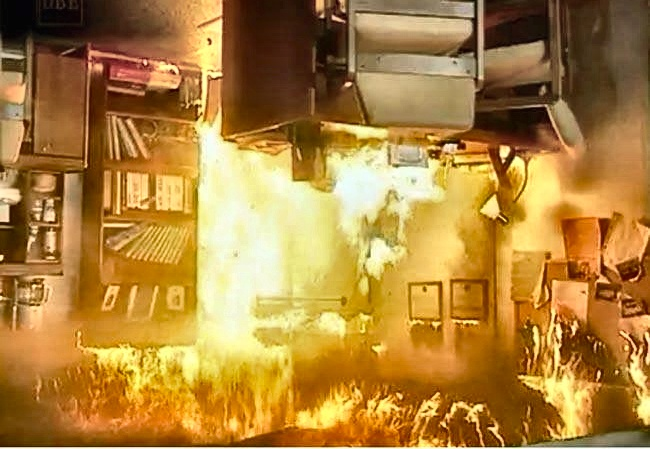fire: (36, 122, 650, 449)
